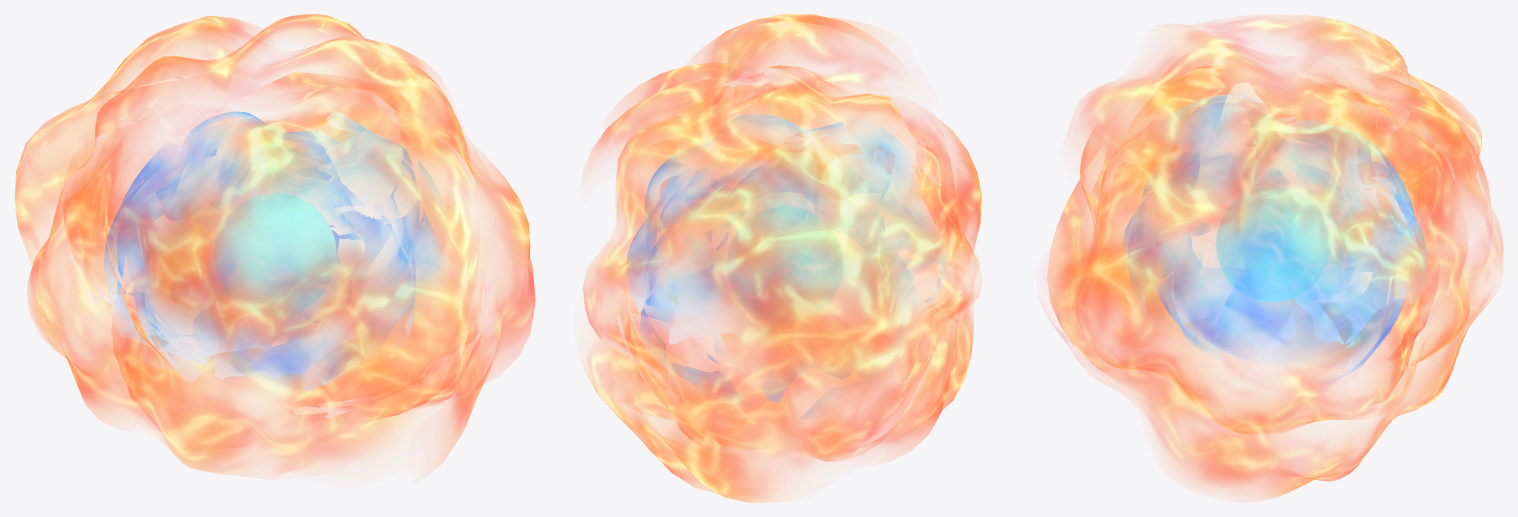
The model's file is supernova.glb.
The picture shows the model from 3 angles, left to right: view 1: azimuth 30°, elevation 25°; view 2: azimuth 150°, elevation 25°; view 3: azimuth 270°, elevation 25°; orthographic projection. The views are drawn at different scales.
Visible parts, largest first — view 1: Supernova_RingWave.000, Supernova_RingWave.003, Supernova_RingWave.009, Supernova_RingWave.008, Supernova_RingWave.006, Supernova_Core, Supernova_RingWave.002, Supernova_RingWave.001, Supernova_RingWave.004; view 2: Supernova_RingWave.003, Supernova_RingWave.000, Supernova_RingWave.008, Supernova_RingWave.009, Supernova_RingWave.006, Supernova_Core, Supernova_RingWave.002, Supernova_RingWave.001; view 3: Supernova_RingWave.003, Supernova_RingWave.000, Supernova_RingWave.008, Supernova_RingWave.009, Supernova_RingWave.006, Supernova_RingWave.002, Supernova_RingWave.001, Supernova_Core.
Boxes of the visible parts, bbox=[...] form: Supernova_RingWave.000: bbox=[27, 14, 483, 476]; Supernova_RingWave.003: bbox=[14, 16, 535, 469]; Supernova_RingWave.009: bbox=[62, 114, 484, 420]; Supernova_RingWave.008: bbox=[111, 72, 428, 428]; Supernova_RingWave.006: bbox=[104, 139, 440, 345]; Supernova_Core: bbox=[214, 193, 336, 315]; Supernova_RingWave.002: bbox=[116, 119, 433, 354]; Supernova_RingWave.001: bbox=[140, 111, 411, 384]; Supernova_RingWave.004: bbox=[231, 170, 360, 262]; Supernova_RingWave.003: bbox=[579, 14, 931, 502]; Supernova_RingWave.000: bbox=[585, 62, 973, 459]; Supernova_RingWave.008: bbox=[583, 66, 980, 461]; Supernova_RingWave.009: bbox=[609, 106, 981, 449]; Supernova_RingWave.006: bbox=[627, 164, 911, 315]; Supernova_Core: bbox=[727, 207, 843, 319]; Supernova_RingWave.002: bbox=[640, 114, 944, 415]; Supernova_RingWave.001: bbox=[657, 165, 884, 250]; Supernova_RingWave.003: bbox=[1051, 14, 1503, 502]; Supernova_RingWave.000: bbox=[1047, 72, 1490, 396]; Supernova_RingWave.008: bbox=[1129, 64, 1438, 403]; Supernova_RingWave.009: bbox=[1075, 53, 1469, 434]; Supernova_RingWave.006: bbox=[1123, 147, 1426, 347]; Supernova_RingWave.002: bbox=[1176, 95, 1404, 376]; Supernova_RingWave.001: bbox=[1158, 123, 1367, 357]; Supernova_Core: bbox=[1215, 187, 1329, 301].
Size of the model in its own units: 3.71 by 4.13 by 4.11.
3 materials, 2 textured.
